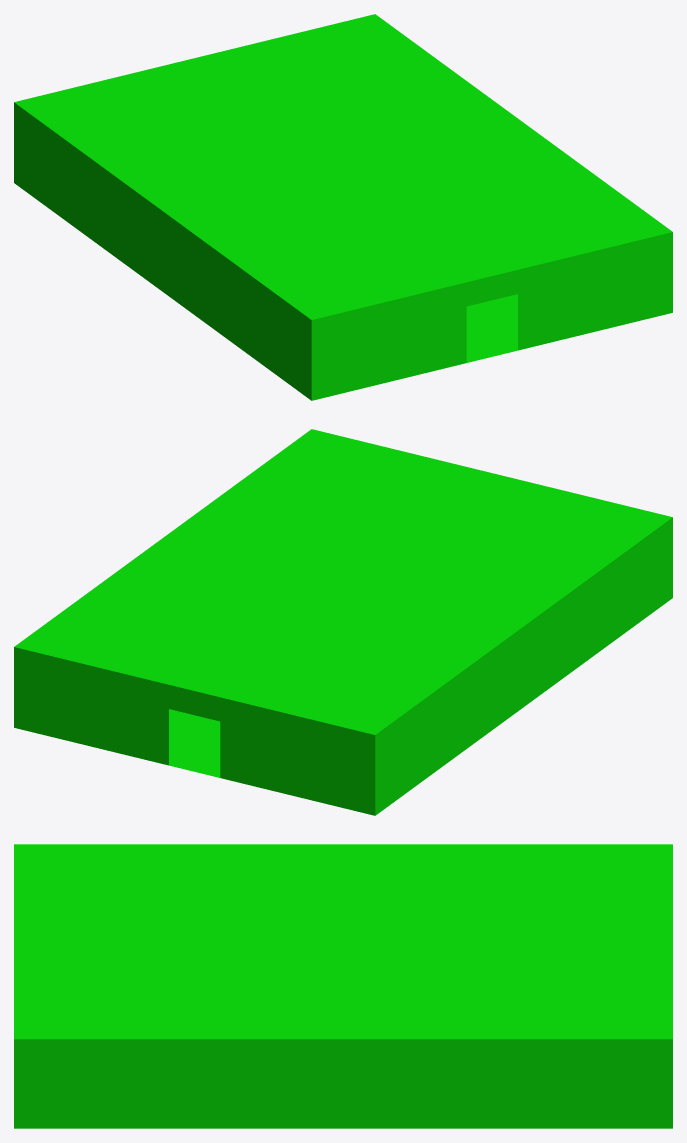
The model's file is pip2_lvl3room_bm(1).fbx.
3 renders of one model, top to bottom at view 1: azimuth 30°, elevation 25°; view 2: azimuth 150°, elevation 25°; view 3: azimuth 270°, elevation 25°, orthographic. The views are drawn at different scales.
Parts seen in each view (by area): view 1: canteen_room; view 2: canteen_room; view 3: canteen_room.
Boxes of the visible parts, x1=… form: canteen_room: x1=14, y1=14, x2=672, y2=400; canteen_room: x1=14, y1=429, x2=672, y2=815; canteen_room: x1=14, y1=844, x2=672, y2=1128.
Size of the model in its own units: 1404 by 300 by 2004.
